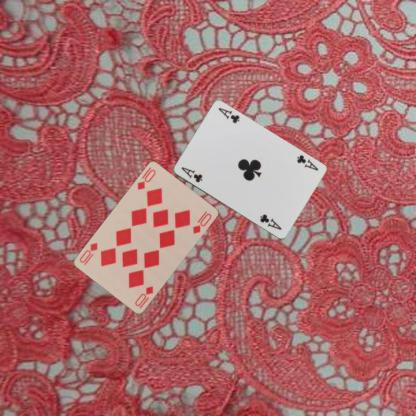10d: (132, 284, 154, 310), (135, 167, 157, 191)
Ac: (178, 164, 204, 184), (294, 152, 320, 172)
